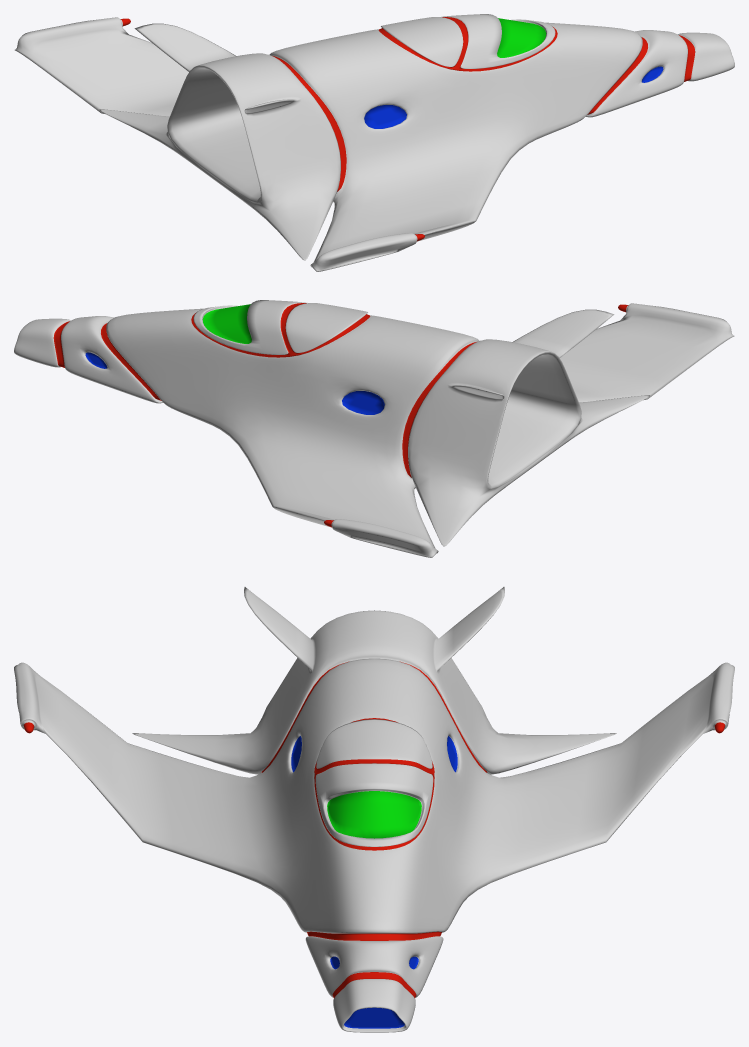
File: UnionShip_01.fbx
The picture shows the model from 3 angles, top to bottom: view 1: azimuth 30°, elevation 25°; view 2: azimuth 150°, elevation 25°; view 3: azimuth 270°, elevation 25°; orthographic projection. The views are drawn at different scales.
Visible parts, largest first — view 1: Cube; view 2: Cube; view 3: Cube.
Part boxes in pixels (left/top/right/bottom): Cube: left=14, top=14, right=734, bottom=271; Cube: left=14, top=300, right=734, bottom=557; Cube: left=14, top=587, right=734, bottom=1032.
Size of the model in its own units: 8.8 by 1.97 by 8.41.
